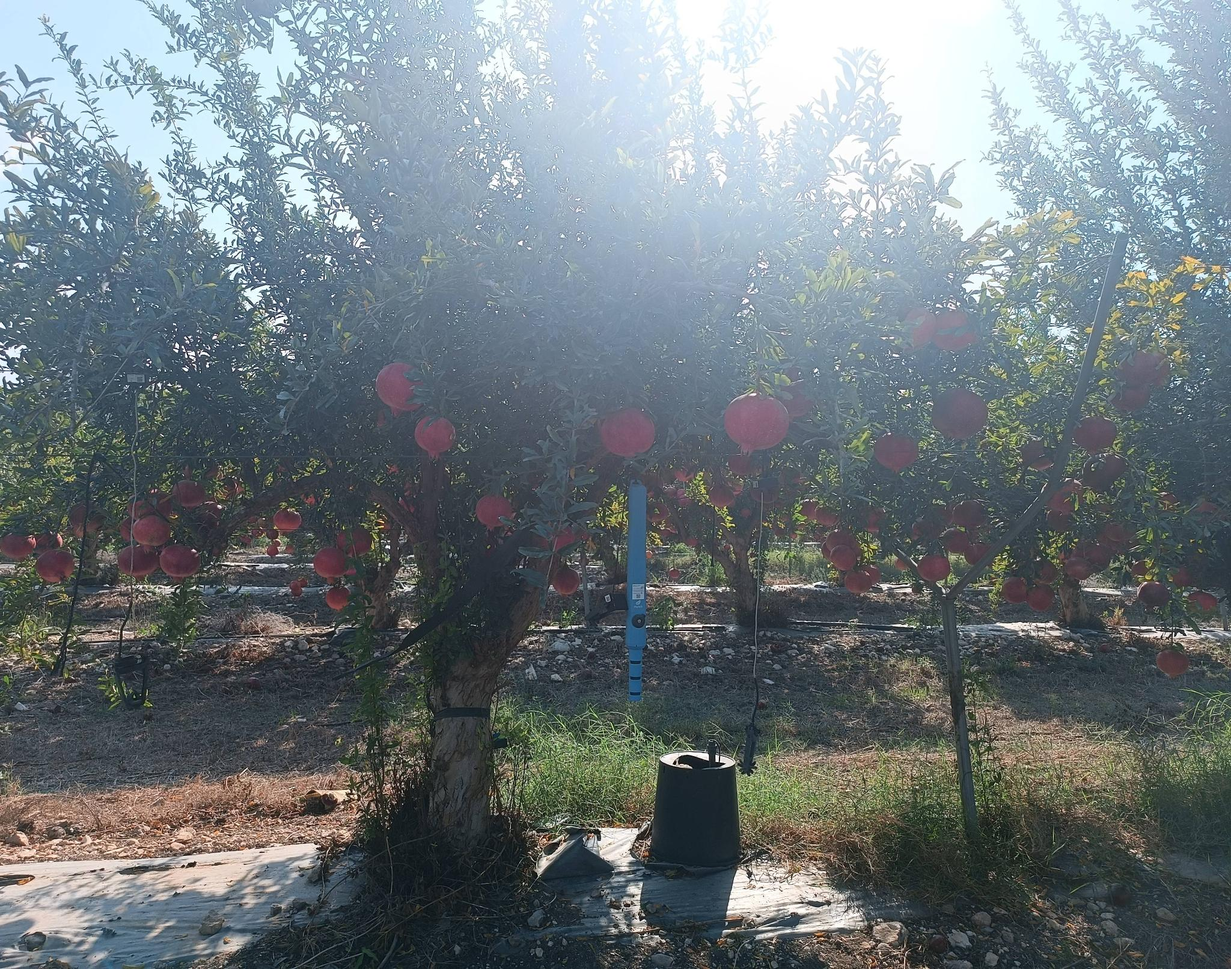pomegranates: (726, 391, 790, 458), (931, 388, 989, 443), (599, 407, 656, 461), (375, 361, 428, 419), (874, 431, 919, 477), (414, 415, 456, 463), (896, 305, 936, 352), (69, 500, 112, 543), (160, 544, 202, 586), (1082, 454, 1127, 492), (1074, 415, 1118, 453), (932, 310, 972, 351), (117, 544, 160, 582), (1041, 478, 1085, 512), (132, 515, 171, 553), (1119, 349, 1160, 384), (35, 551, 77, 585), (314, 545, 350, 584), (476, 494, 512, 532), (1109, 380, 1150, 411), (1075, 541, 1112, 574), (1020, 437, 1055, 471), (171, 480, 206, 513), (540, 521, 574, 554), (1, 531, 35, 563), (337, 528, 372, 559), (953, 499, 986, 531), (1155, 650, 1189, 681), (918, 555, 951, 586), (1138, 581, 1171, 611), (1098, 532, 1137, 556), (1026, 583, 1056, 614), (1191, 500, 1226, 526), (387, 459, 414, 490), (912, 516, 940, 545), (553, 568, 580, 598), (29, 531, 64, 554), (845, 571, 872, 599), (941, 527, 969, 554), (1001, 576, 1028, 604), (1030, 558, 1058, 585), (1047, 509, 1078, 533), (925, 503, 954, 528), (1186, 592, 1218, 614), (326, 586, 352, 613), (829, 545, 856, 571), (860, 506, 888, 531), (274, 509, 302, 533), (1064, 557, 1092, 581), (709, 484, 735, 509), (1153, 489, 1180, 513), (148, 491, 173, 516), (750, 482, 779, 503), (1152, 350, 1171, 382), (965, 542, 990, 566), (1167, 565, 1193, 588), (219, 479, 245, 502), (1108, 521, 1137, 541), (857, 563, 881, 587), (1131, 559, 1156, 582), (814, 503, 838, 526), (644, 501, 669, 523), (128, 499, 154, 520), (826, 529, 851, 550), (728, 456, 753, 475), (119, 516, 137, 542), (674, 461, 696, 482), (798, 499, 819, 520), (301, 490, 324, 507), (399, 493, 417, 514), (206, 502, 225, 521), (375, 516, 390, 533), (822, 541, 834, 559), (895, 558, 911, 570), (664, 486, 677, 498), (267, 545, 279, 558), (267, 528, 279, 540), (668, 568, 680, 580), (252, 527, 263, 540), (677, 495, 690, 505), (271, 539, 282, 548), (676, 489, 685, 498)
